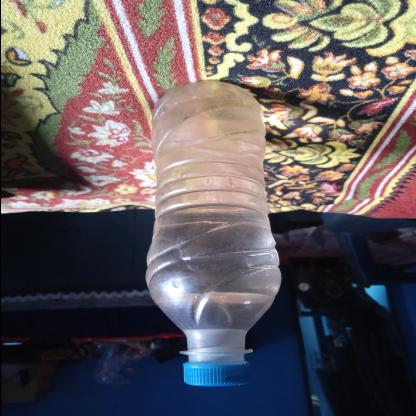bottle: (36, 212, 416, 318)
